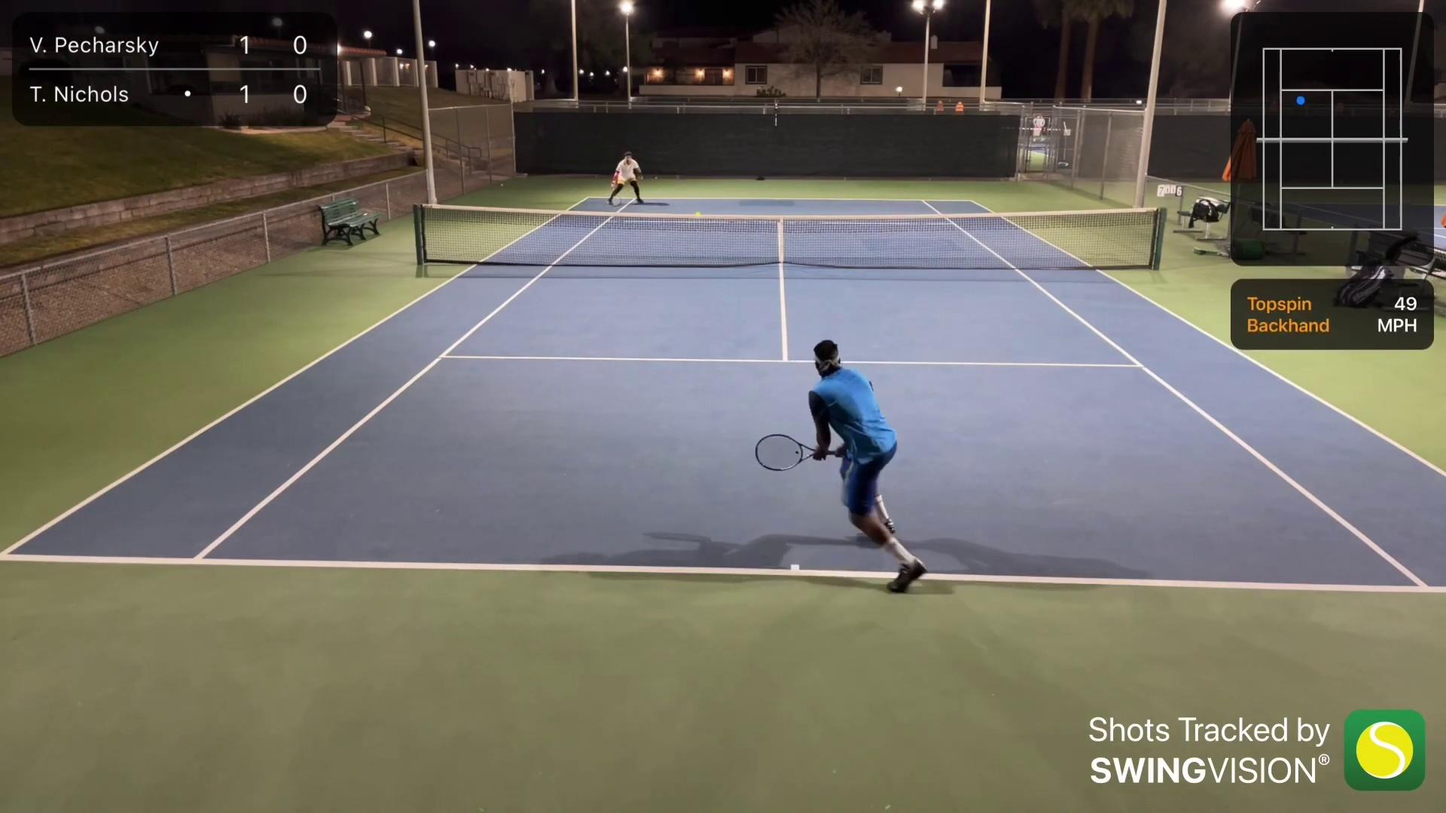ball: (691, 209, 705, 218)
